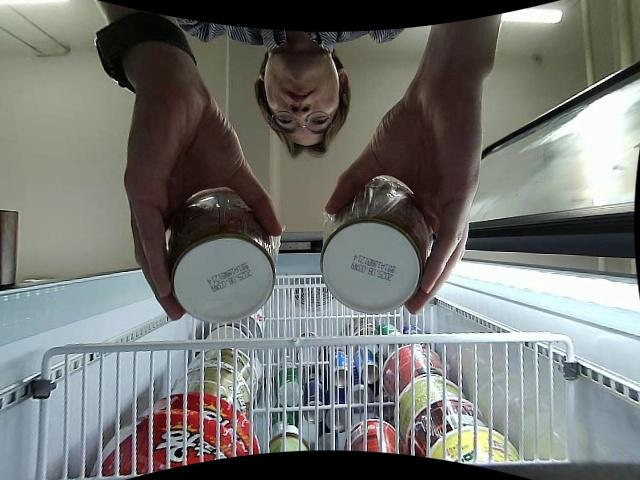00_hand: (125, 98, 284, 320), (323, 105, 485, 316)
04_chapagetti_S: (318, 175, 429, 314), (168, 187, 274, 320)
